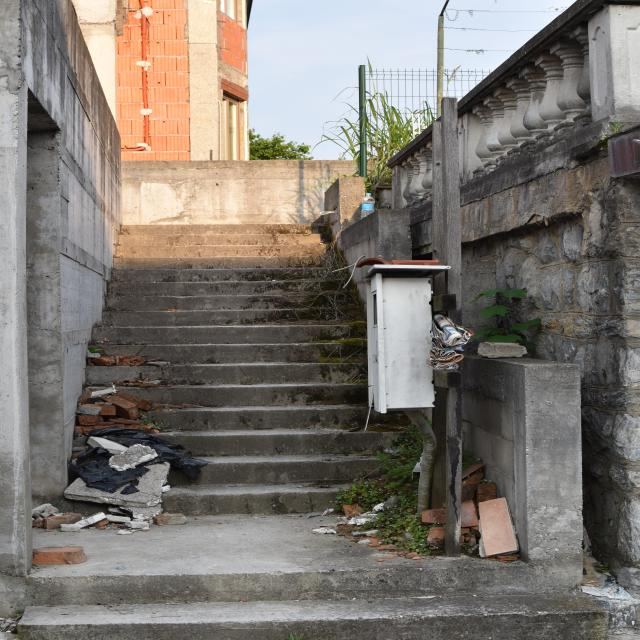entulho: (66, 438, 180, 534), (450, 498, 524, 569), (72, 386, 158, 432), (432, 314, 474, 370)
lixo domiciliar: (360, 193, 373, 213)
